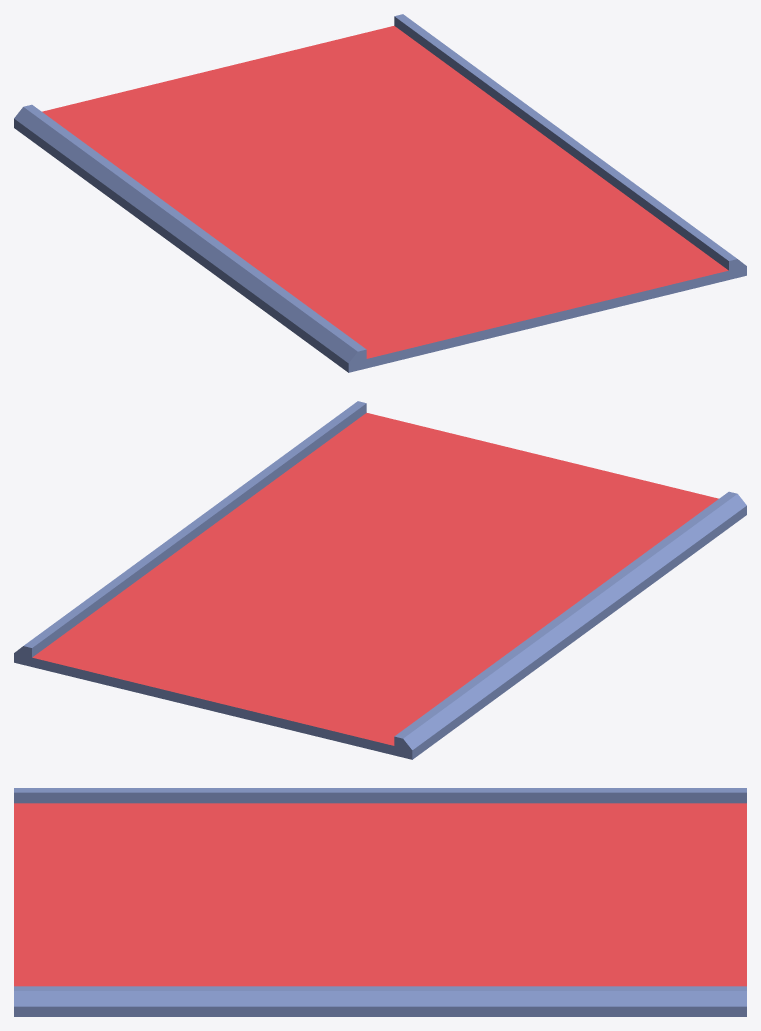
The model's file is tile-straight.glb.
3 renders of one model, top to bottom at view 1: azimuth 30°, elevation 25°; view 2: azimuth 150°, elevation 25°; view 3: azimuth 270°, elevation 25°, orthographic. The views are drawn at different scales.
Parts seen in each view (by area): view 1: tile-straight; view 2: tile-straight; view 3: tile-straight.
Part boxes in pixels (x1,y1,x2,y2): tile-straight: (14,14,746,372); tile-straight: (14,401,746,759); tile-straight: (14,788,746,1016).
Size of the model in its own units: 11 by 0.5 by 16.
